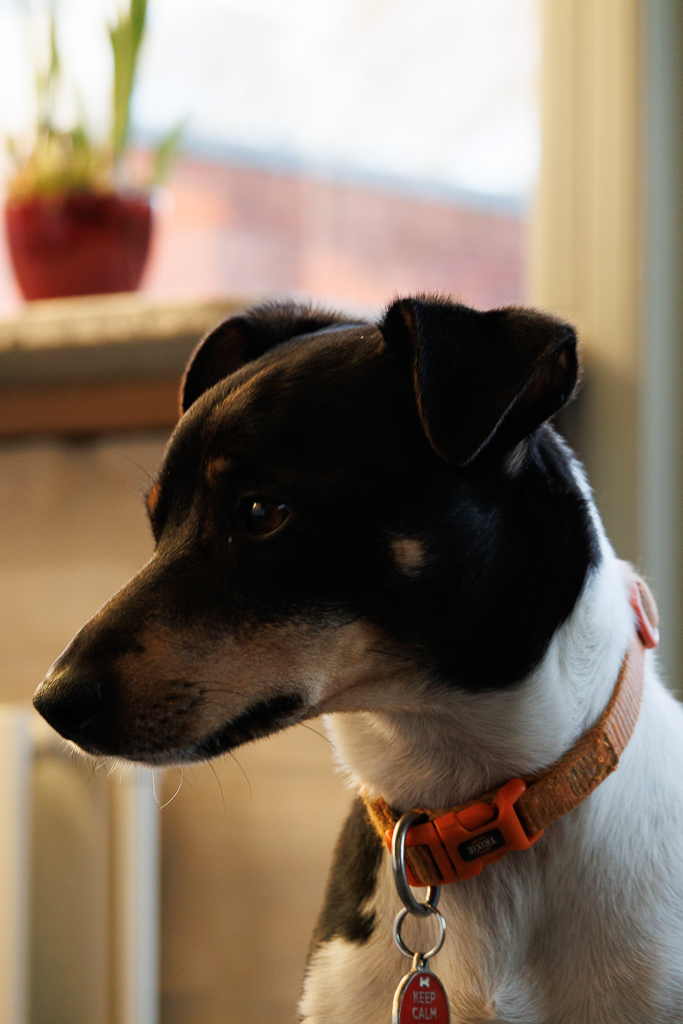Dog: (23, 285, 683, 1024)
